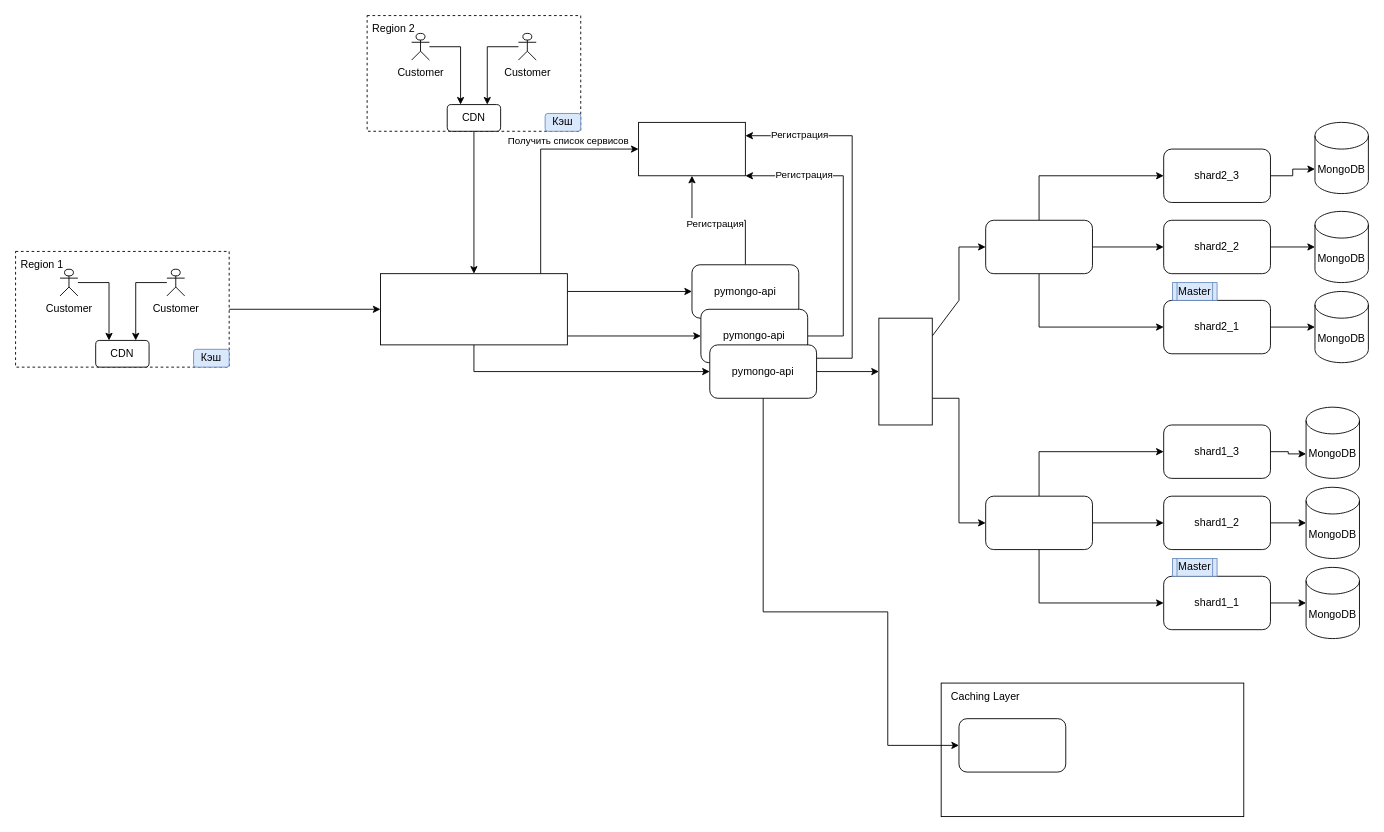
Some shapes in this 1384 by 832 pixel diagram are drawn without their labels. Here are the shapes that lost their labels. From the top down, the centre of each, then its label:
pixel 691 148: Consul
pixel 1038 246: shard2
pixel 473 309: APISIX Gateway
pixel 905 371: MongoDB router
pixel 1038 522: shard1
pixel 1012 745: Redis
